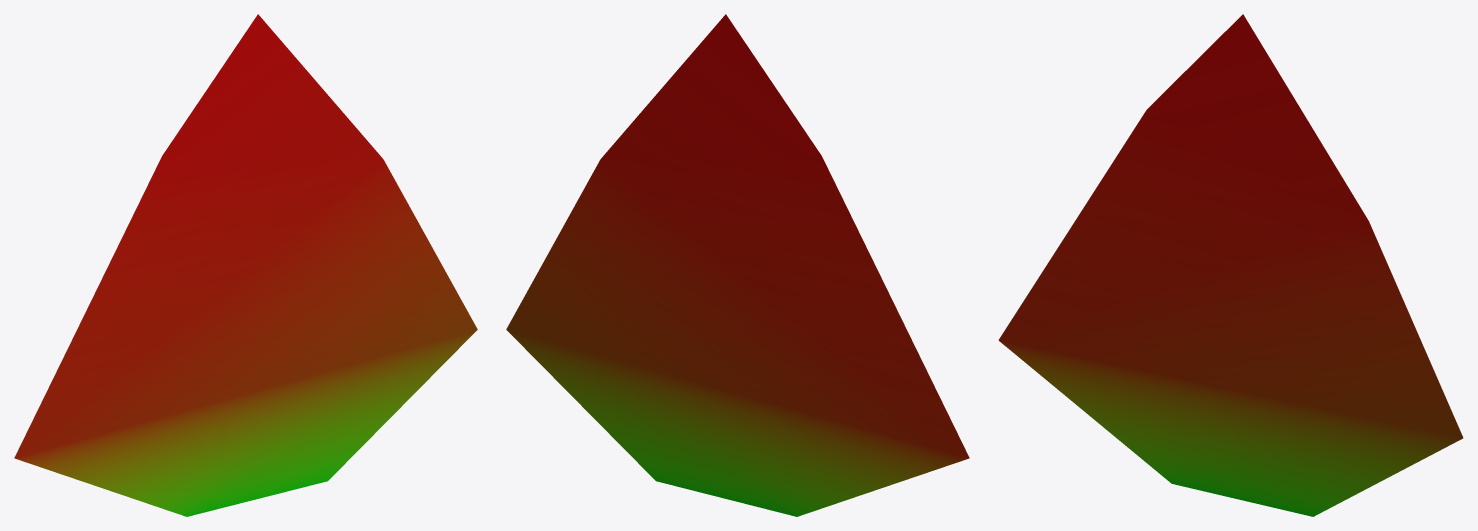
The model's file is ueyoebmia_Var2_LOD3.fbx.
3 views of the same model, side by side, from view 1: azimuth 30°, elevation 25°; view 2: azimuth 150°, elevation 25°; view 3: azimuth 330°, elevation 25° (orthographic).
Parts seen in each view (by area): view 1: _835c_Var2_LOD3; view 2: _835c_Var2_LOD3; view 3: _835c_Var2_LOD3.
Boxes of the visible parts, x1,y1,x2,y2 form: _835c_Var2_LOD3: (14,14,477,516); _835c_Var2_LOD3: (506,14,969,516); _835c_Var2_LOD3: (998,14,1463,516).
Bounding box in the file's own units: 26.83 × 26.85 × 5.07e-06.
